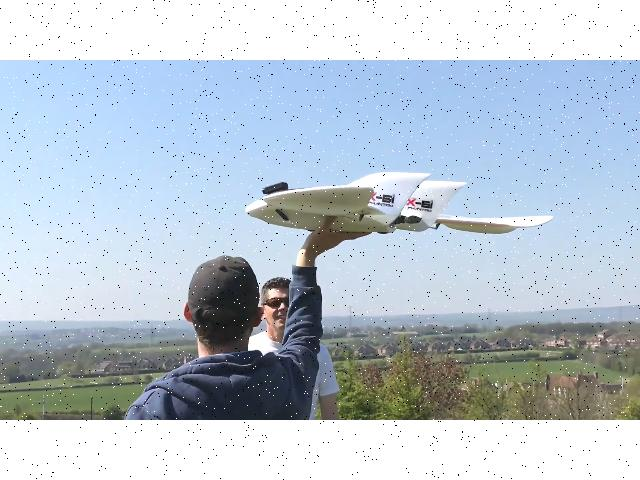Anti-Drone: (238, 156, 582, 268)
